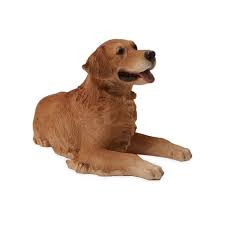Golden Retriever: (25, 25, 197, 192)
